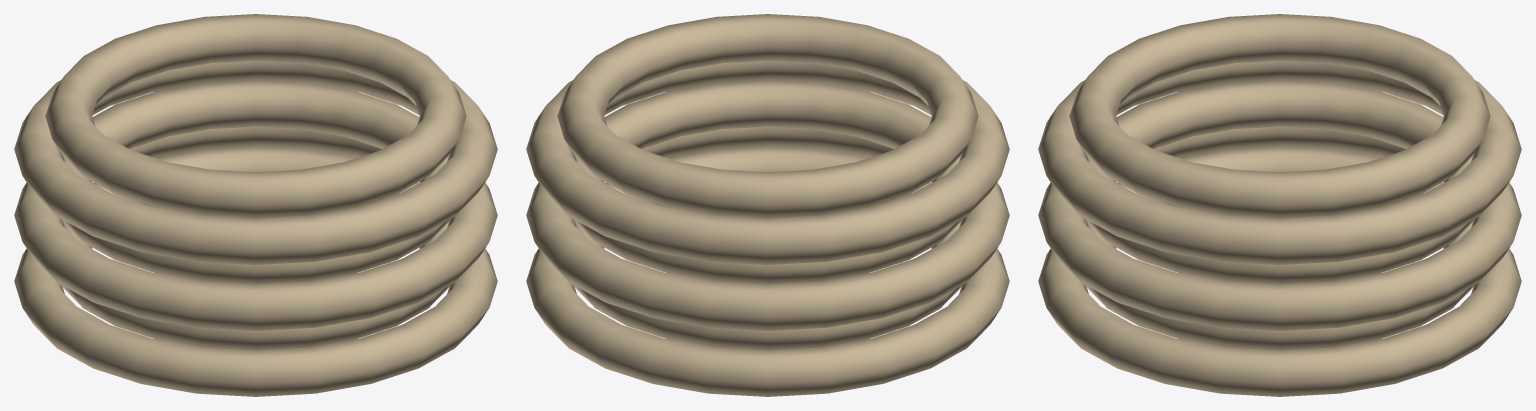
The model's file is rope_coil.glb.
The picture shows the model from 3 angles, left to right: view 1: azimuth 30°, elevation 25°; view 2: azimuth 150°, elevation 25°; view 3: azimuth 270°, elevation 25°; orthographic projection.
Parts seen in each view (by area): view 1: rope_coil; view 2: rope_coil; view 3: rope_coil.
Boxes of the visible parts, x1,y1,x2,y2 form: rope_coil: (14, 14, 497, 396); rope_coil: (526, 14, 1009, 396); rope_coil: (1038, 14, 1521, 396).
Size of the model in its own units: 0.93 by 0.4279 by 0.93.
